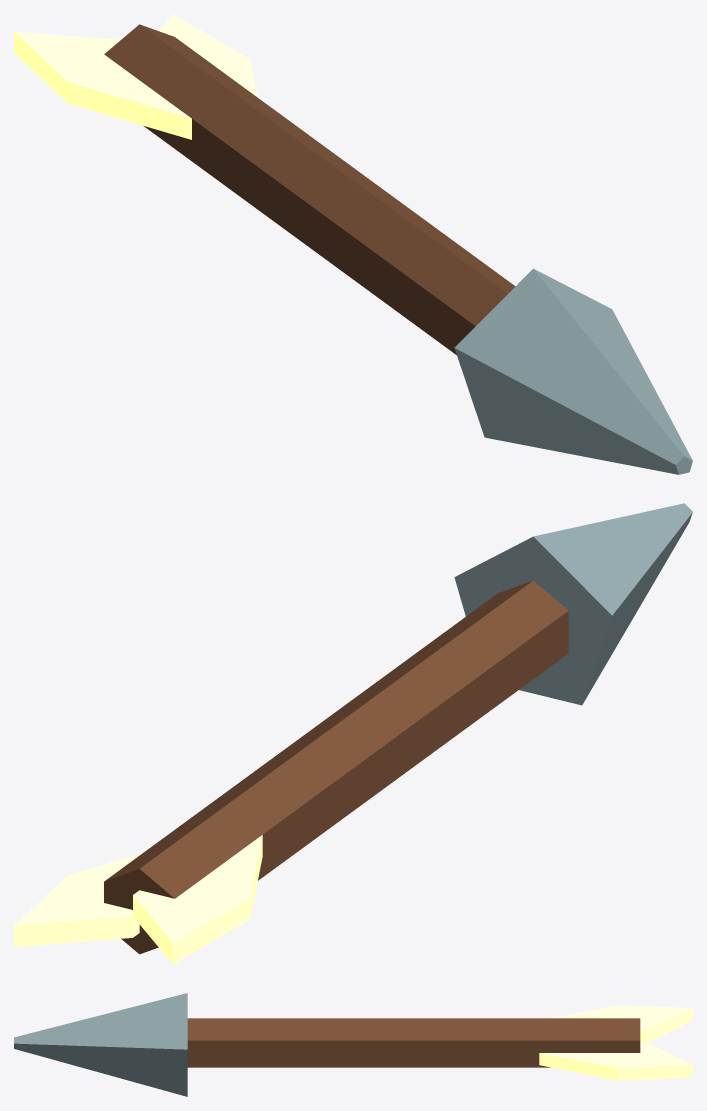
The model's file is fx_bolt.glb.
The picture shows the model from 3 angles, top to bottom: view 1: azimuth 30°, elevation 25°; view 2: azimuth 150°, elevation 25°; view 3: azimuth 270°, elevation 25°; orthographic projection. The views are drawn at different scales.
Parts seen in each view (by area): view 1: Shaft, Point, Fletching, Fletching.001; view 2: Shaft, Point, Fletching, Fletching.001; view 3: Shaft, Point, Fletching.001, Fletching.
Boxes of the visible parts, x1,y1,x2,y2 form: Shaft: [104, 24, 515, 354]; Point: [454, 268, 692, 474]; Fletching: [14, 31, 191, 139]; Fletching.001: [159, 14, 257, 97]; Shaft: [104, 580, 568, 954]; Point: [454, 503, 692, 705]; Fletching: [133, 835, 262, 964]; Fletching.001: [14, 853, 142, 947]; Shaft: [187, 1018, 640, 1067]; Point: [14, 993, 187, 1096]; Fletching.001: [539, 1043, 692, 1080]; Fletching: [552, 1005, 692, 1042].
Bounding box in the file's own units: 0.16 × 0.1321 × 0.9.
